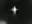person: (11, 7, 19, 16)
